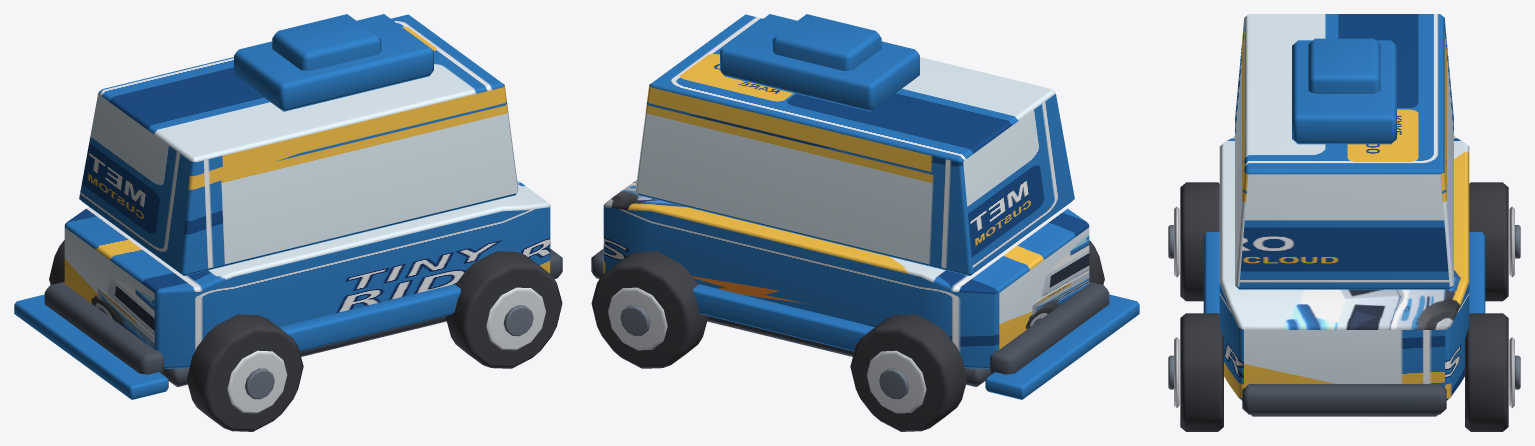
3 renders of one model, left to right at view 1: azimuth 30°, elevation 25°; view 2: azimuth 150°, elevation 25°; view 3: azimuth 270°, elevation 25°, orthographic. The views are drawn at different scales.
Visible parts, largest first — view 1: CC-04_cabin, CC-04_connected_shell, custom equipment, Tire, Tire.002, custom side guard, custom chin, roof sign, front bumper, Rim, Rim.002, underbody (+2 smaller); view 2: CC-04_cabin, CC-04_connected_shell, custom equipment, Tire.001, Tire.003, custom side guard.001, custom chin, roof sign, front bumper, Rim.001, Rim.003, underbody (+2 smaller); view 3: CC-04_cabin, CC-04_connected_shell, custom equipment, rear bumper, Tire.002, Tire.003, roof sign, Tire, Tire.001, custom side guard, custom side guard.001, underbody (+4 smaller).
Boxes of the visible parts, x1,y1,x2,y2 form: CC-04_cabin: [79, 14, 518, 275]; CC-04_connected_shell: [64, 180, 550, 368]; custom equipment: [234, 14, 433, 111]; Tire: [186, 314, 303, 431]; Tire.002: [445, 251, 562, 368]; custom side guard: [279, 284, 460, 351]; custom chin: [14, 294, 168, 399]; roof sign: [272, 14, 381, 70]; front bumper: [44, 281, 164, 374]; Rim: [227, 350, 287, 413]; Rim.002: [486, 287, 545, 350]; underbody: [162, 316, 446, 386]; CC-04_cabin: [635, 14, 1074, 275]; CC-04_connected_shell: [603, 180, 1089, 368]; custom equipment: [720, 14, 919, 111]; Tire.001: [850, 314, 967, 431]; Tire.003: [591, 251, 708, 368]; custom side guard.001: [693, 284, 874, 351]; custom chin: [985, 294, 1139, 399]; roof sign: [772, 14, 881, 70]; front bumper: [989, 281, 1109, 374]; Rim.001: [866, 350, 926, 413]; Rim.003: [608, 287, 667, 350]; underbody: [707, 316, 991, 386]; CC-04_cabin: [1235, 14, 1453, 289]; CC-04_connected_shell: [1219, 136, 1469, 400]; custom equipment: [1292, 40, 1396, 144]; rear bumper: [1242, 384, 1446, 414]; Tire.002: [1180, 313, 1223, 431]; Tire.003: [1465, 313, 1508, 431]; roof sign: [1308, 38, 1380, 93]; Tire: [1180, 182, 1219, 301]; Tire.001: [1469, 182, 1508, 301]; custom side guard: [1203, 231, 1219, 313]; custom side guard.001: [1469, 231, 1485, 313]; underbody: [1251, 414, 1437, 416].
Size of the model in its own units: 315 by 208 by 209.
